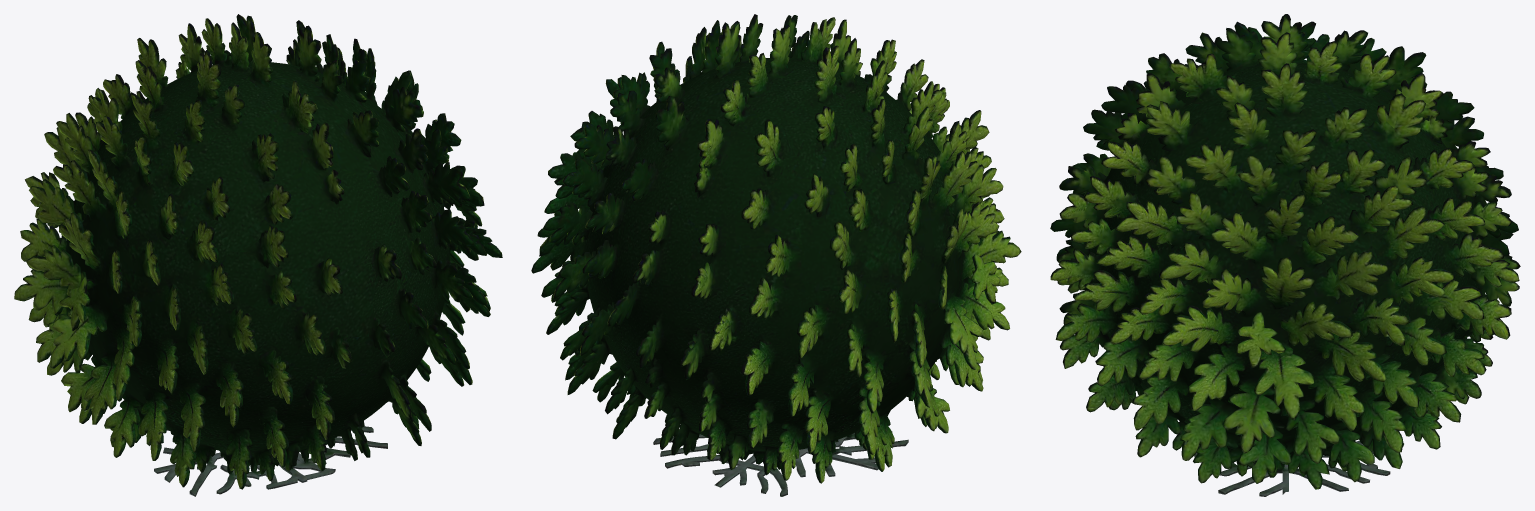
The model's file is bush3d2.glb.
3 renders of one model, left to right at view 1: azimuth 30°, elevation 25°; view 2: azimuth 150°, elevation 25°; view 3: azimuth 270°, elevation 25°, orthographic.
Visible parts, largest first — view 1: tripo_node_d1bc2a62-e57d-47ff-9892-4a17eb8617d7; view 2: tripo_node_d1bc2a62-e57d-47ff-9892-4a17eb8617d7; view 3: tripo_node_d1bc2a62-e57d-47ff-9892-4a17eb8617d7.
Boxes of the visible parts, x1,y1,x2,y2 form: tripo_node_d1bc2a62-e57d-47ff-9892-4a17eb8617d7: (14, 14, 502, 496); tripo_node_d1bc2a62-e57d-47ff-9892-4a17eb8617d7: (531, 14, 1021, 496); tripo_node_d1bc2a62-e57d-47ff-9892-4a17eb8617d7: (1050, 14, 1520, 496).
Size of the model in its own units: 0.9964 by 0.9721 by 1.
Materials: 1 (1 with a texture image).
